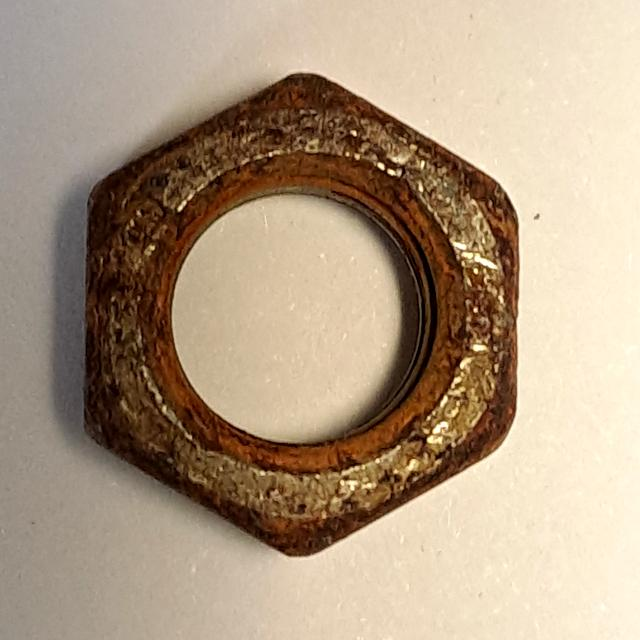Rust: (70, 62, 531, 573)
